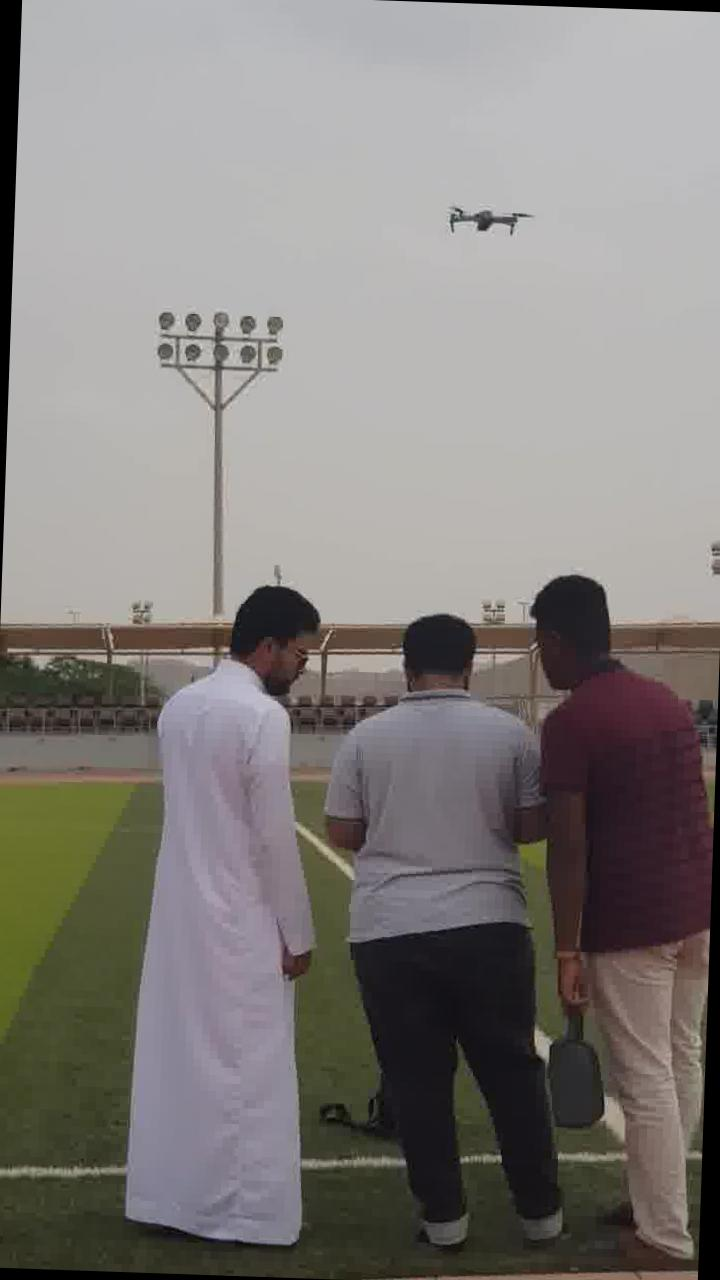drone: (447, 199, 532, 244)
